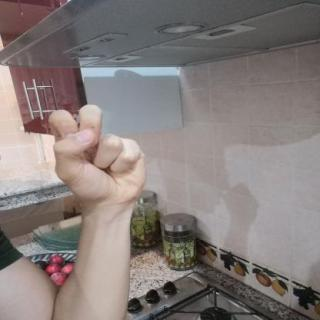QAAF: (40, 98, 154, 218)
